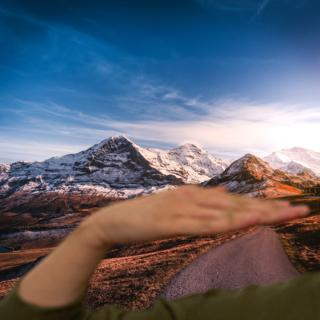WAIT: (86, 180, 313, 254)
